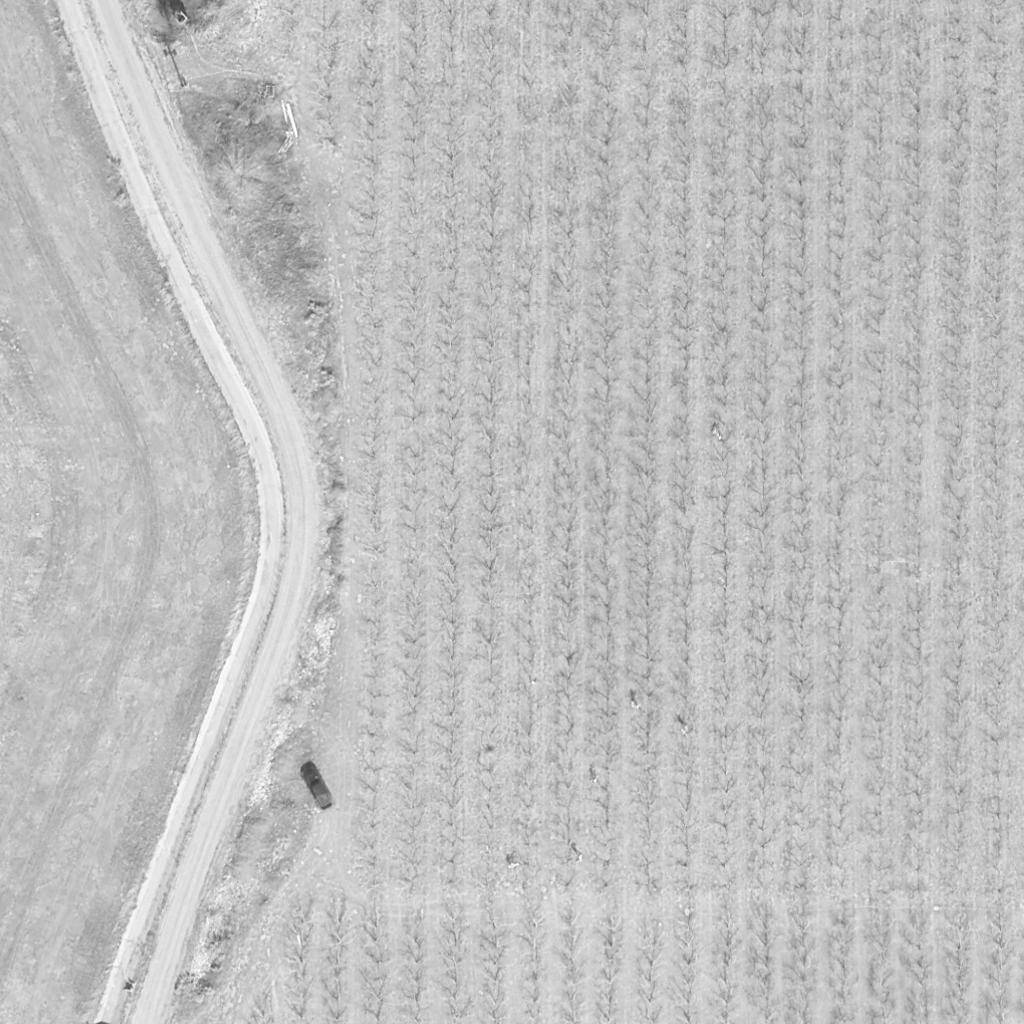vehicle: (300, 766, 336, 810)
